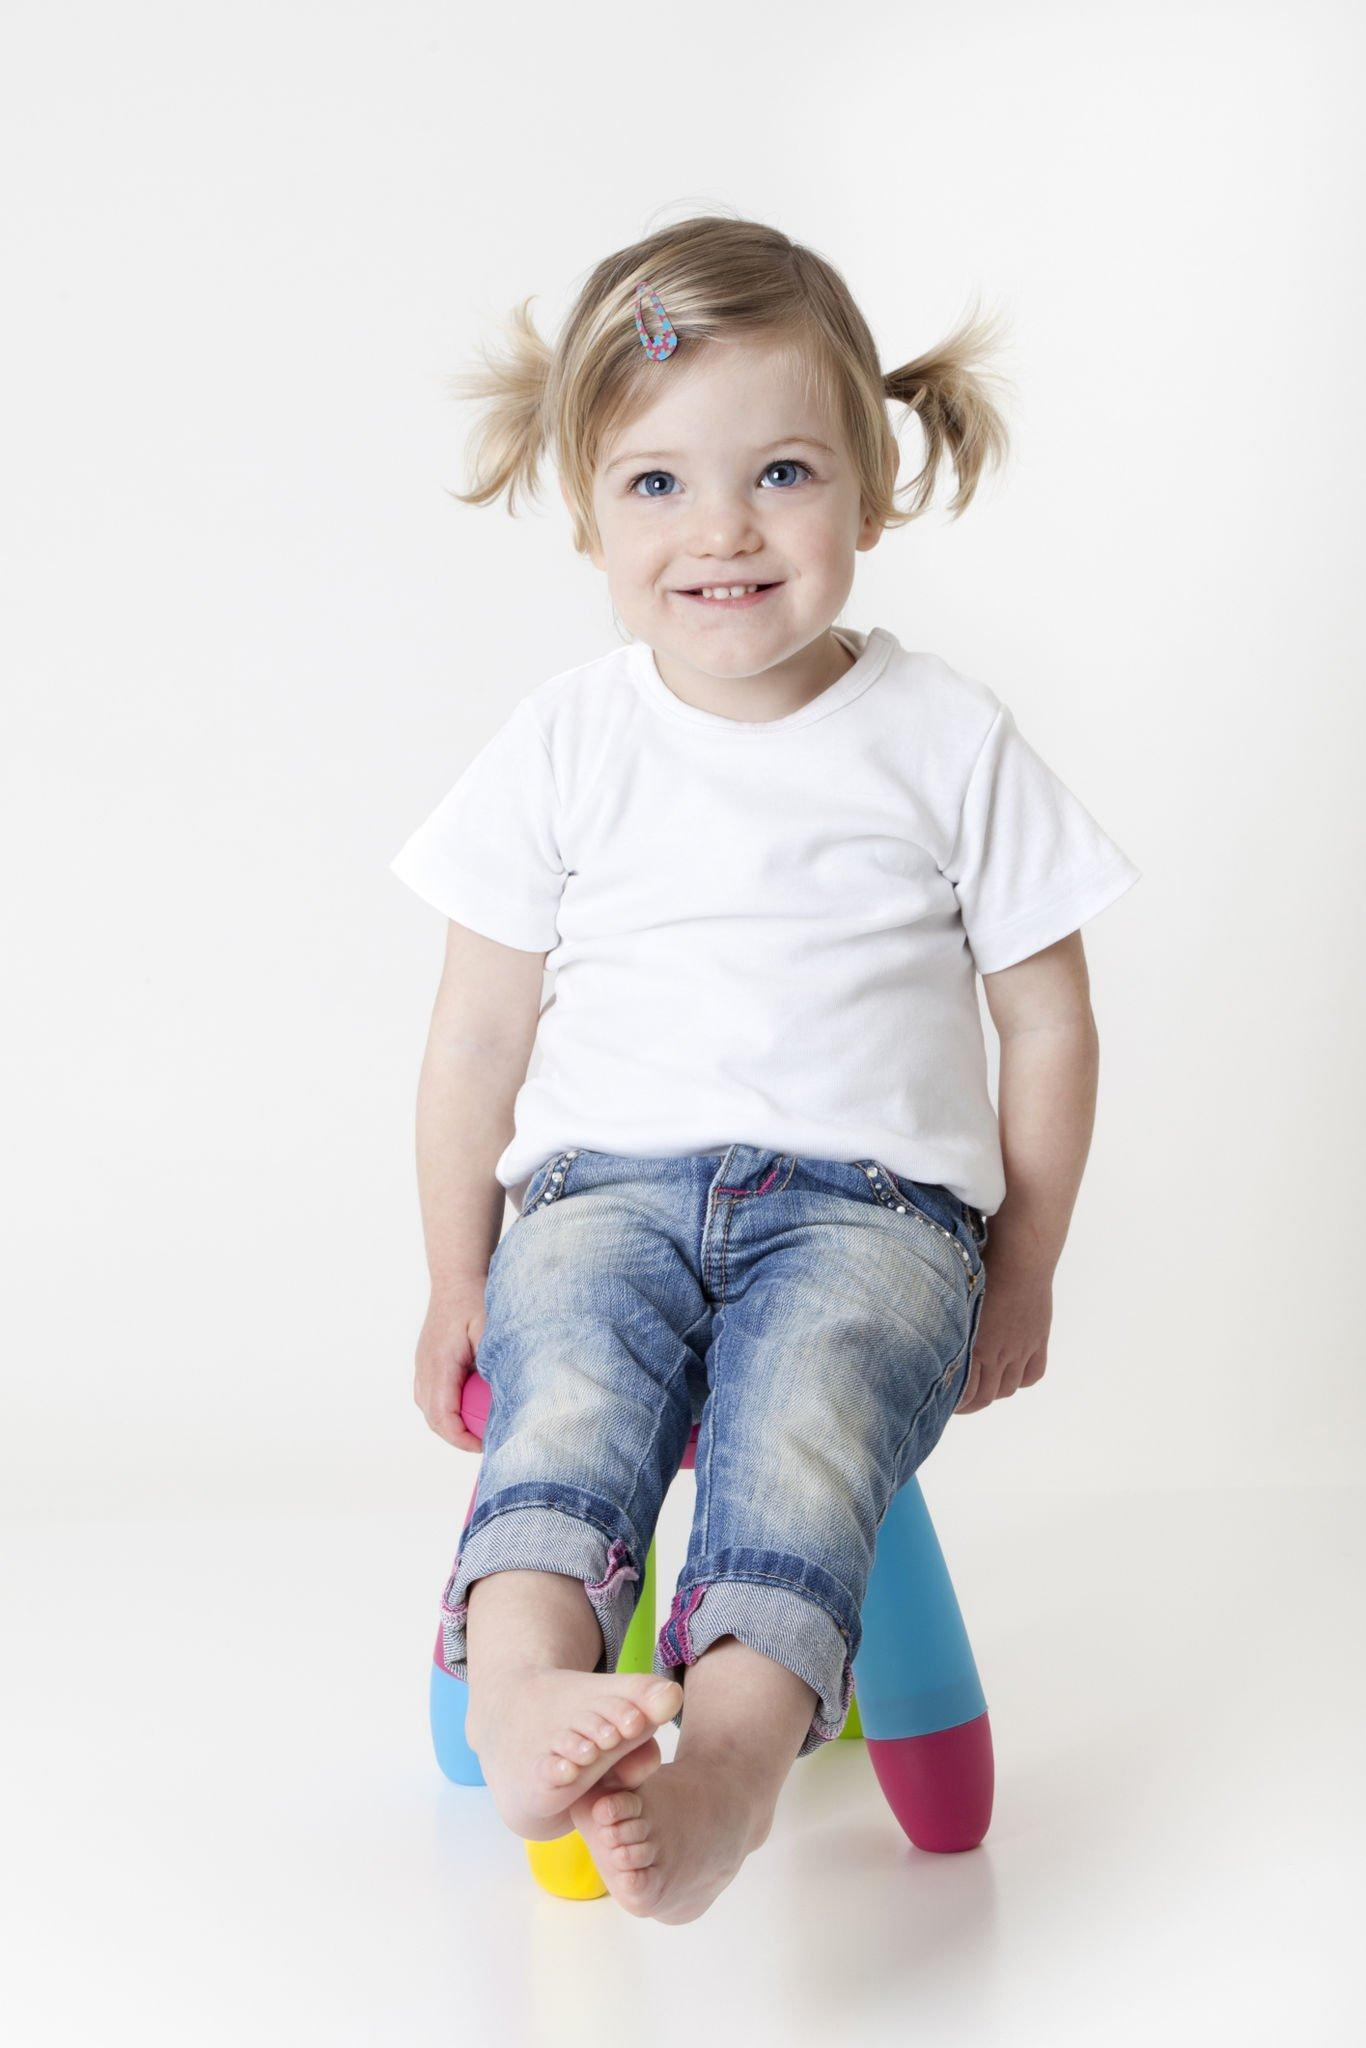Healthy: (526, 341, 909, 716)
